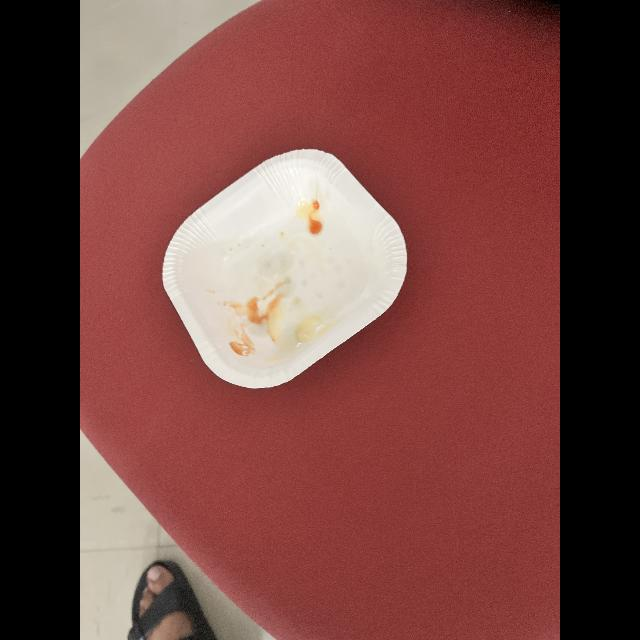cardboard_bowl: (144, 134, 416, 396)
